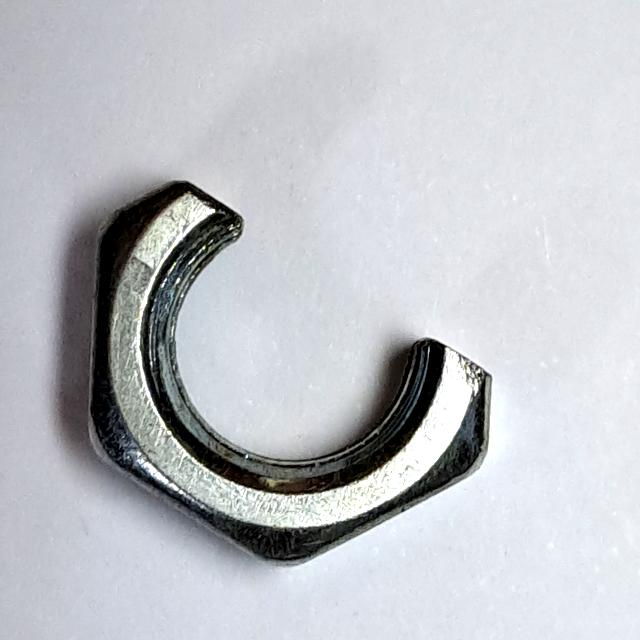Fracture: (75, 167, 515, 580)
